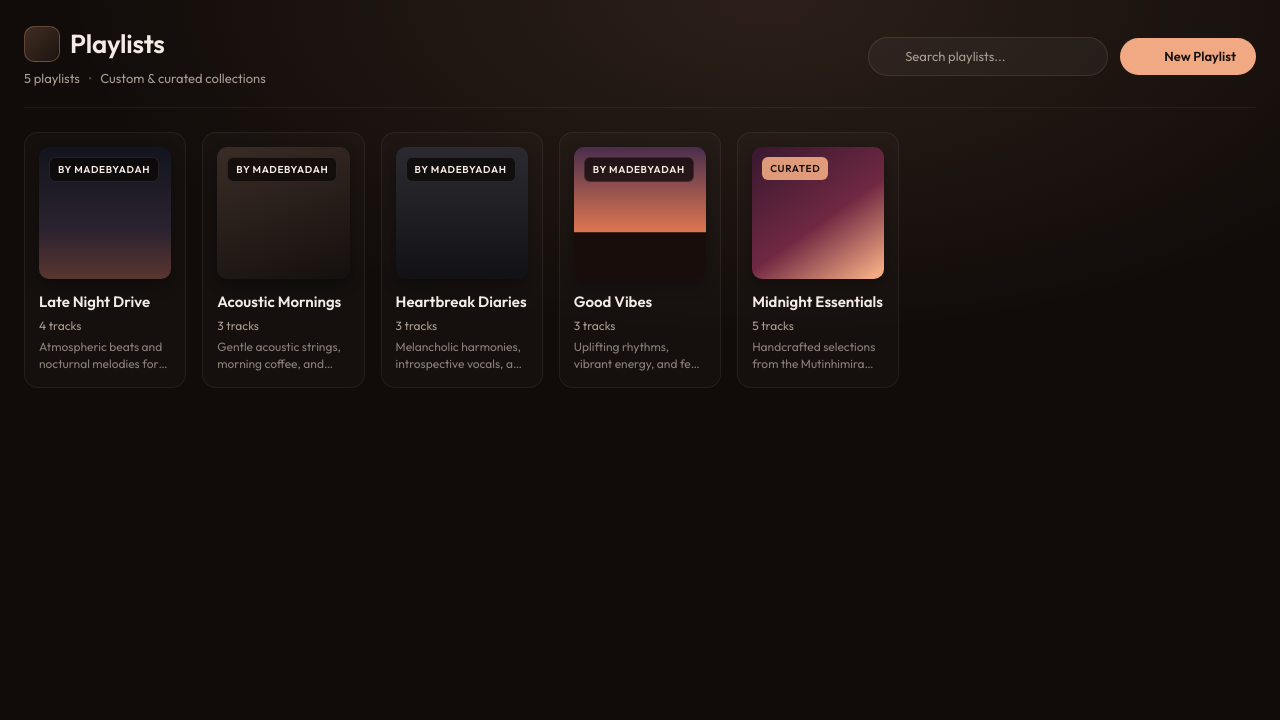
Test case: Playlists and Playlist Detail Screen › clicking New playlist opens the creation modal with Midnight gradient swatches (AC-2)
Click the button "New Playlist" at (1188, 56), box [1120,38,1256,75]
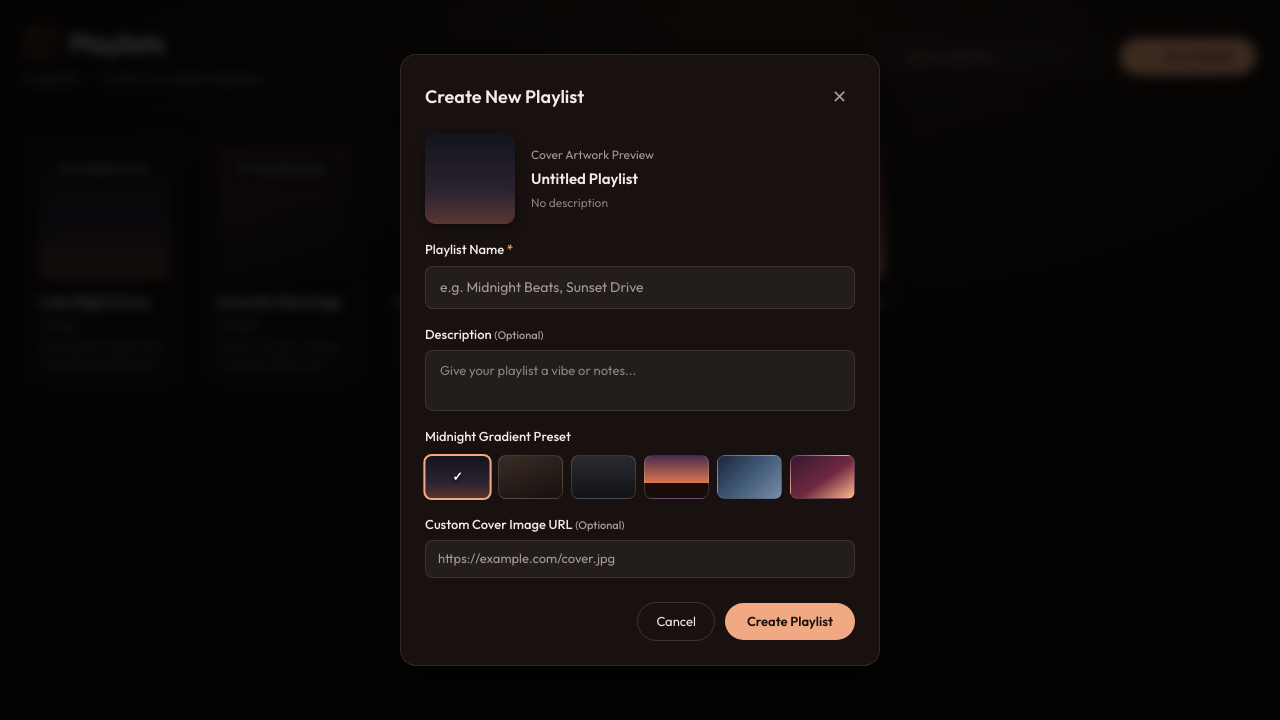
expect the dialog "Create New Playlist" is shown: met
expect the field labelled "Playlist Name *" is shown: met, box [425,266,855,308]
expect the text box labelled "Description (Optional)" is shown: met, box [425,350,855,411]
